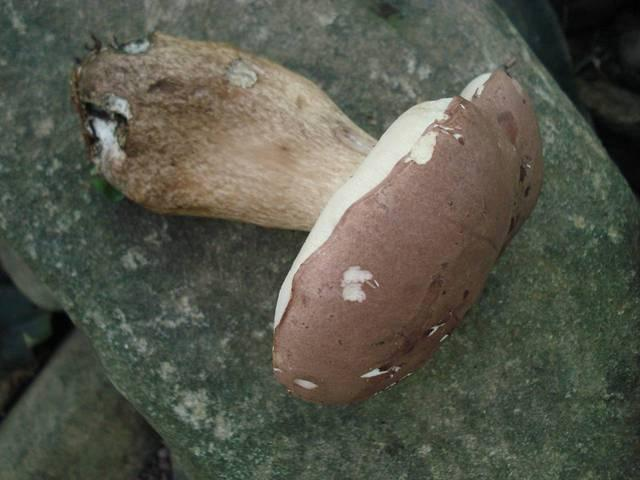poisonous_mushroom: (102, 41, 545, 384)
